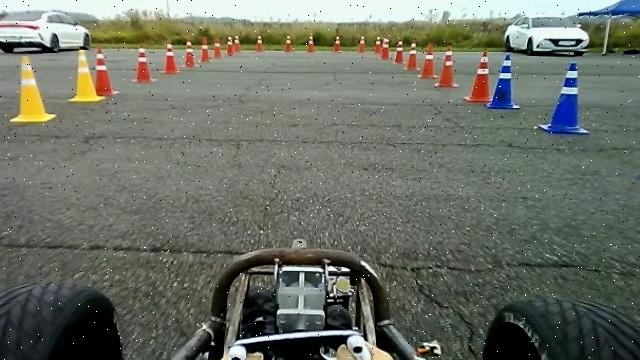blue cone: (536, 61, 590, 134), (488, 54, 524, 110)
red cone: (465, 50, 493, 102), (94, 47, 120, 95), (131, 42, 158, 82), (418, 43, 440, 78), (160, 42, 180, 74), (404, 42, 421, 70)
yellow cone: (9, 54, 56, 122), (67, 47, 106, 102)
